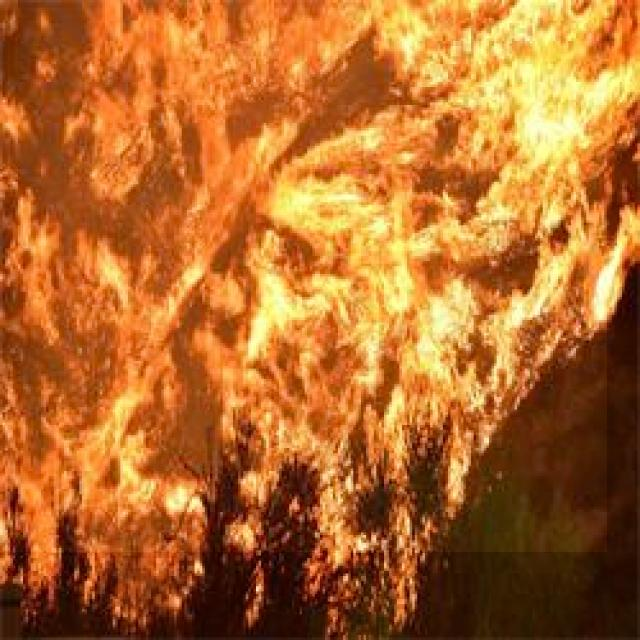Fire: (0, 0, 607, 552)
